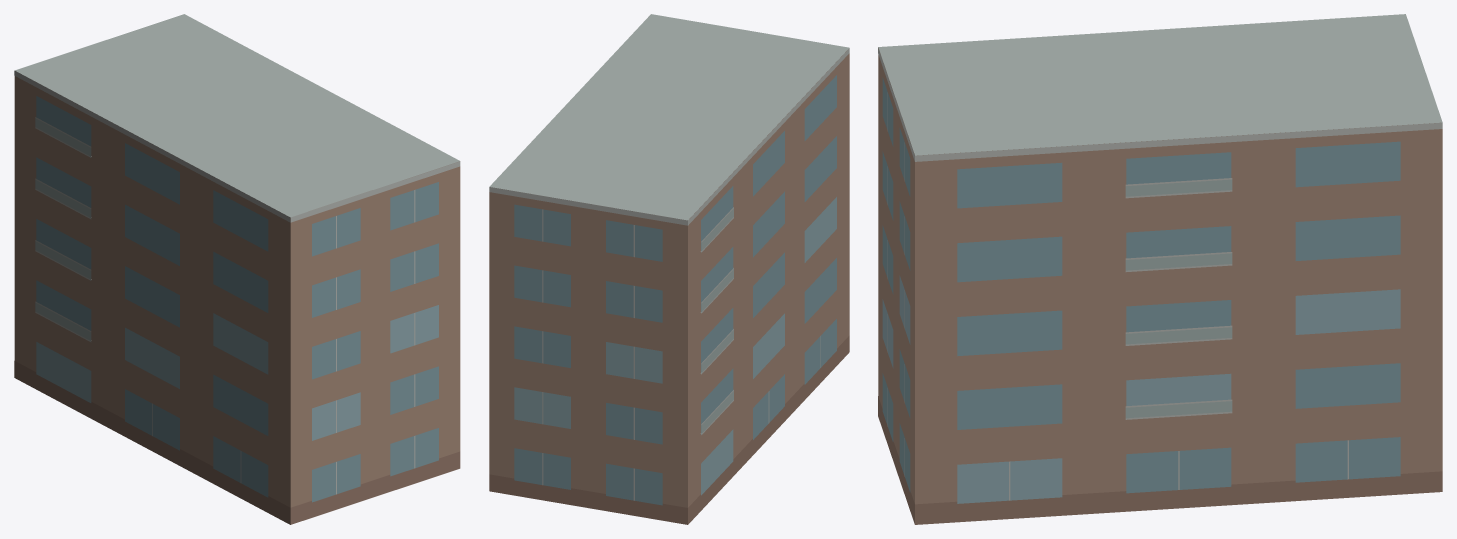
File: survey-upis-32575252.glb
3 views of the same model, side by side, from view 1: azimuth 30°, elevation 25°; view 2: azimuth 150°, elevation 25°; view 3: azimuth 270°, elevation 25° (orthographic). The views are drawn at different scales.
Parts seen in each view (by area): view 1: survey-upis-32575252.tmp; view 2: survey-upis-32575252.tmp; view 3: survey-upis-32575252.tmp.
Boxes of the visible parts, bbox=[...] form: survey-upis-32575252.tmp: bbox=[14, 14, 460, 524]; survey-upis-32575252.tmp: bbox=[489, 14, 849, 524]; survey-upis-32575252.tmp: bbox=[878, 14, 1442, 524].
Size of the model in its own units: 11.69 by 14.2 by 19.68.
